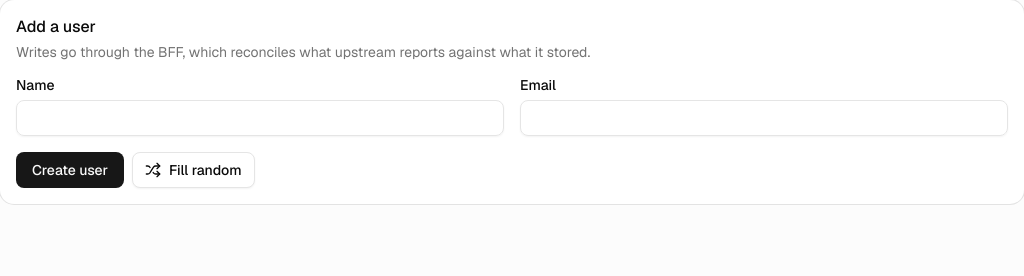
Test: creating a user › says nothing was written when the write is confirmed to have failed
The image size is (1024, 276).
Type "Grace" into the field labelled "Name" at [260, 118], box [16,100,504,136]
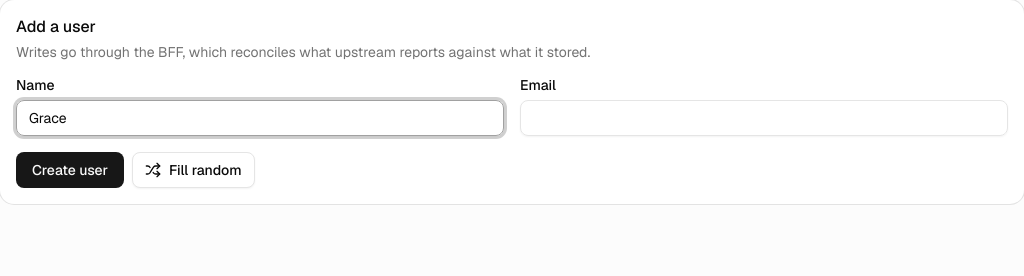
Type "grace@example.com" into the field labelled "Email" at [764, 118], box [520,100,1008,136]
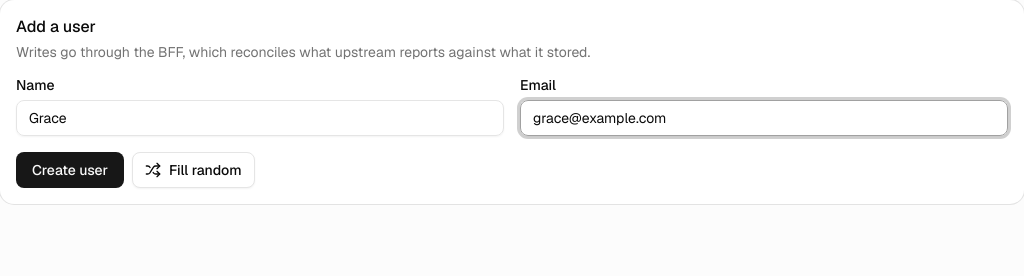
Click the button "Create user" at [70, 170], box [16,152,124,188]
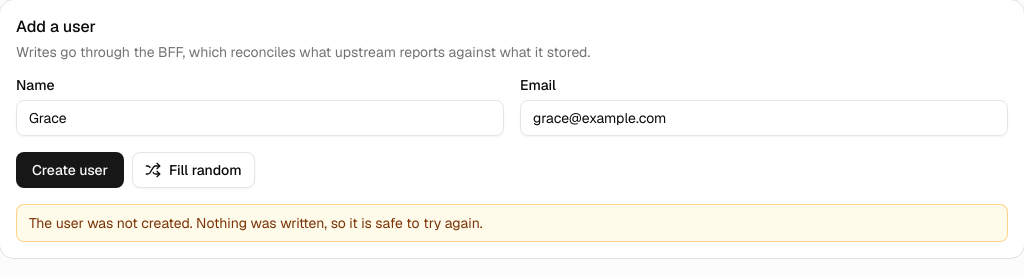
expect the message shows "safe to try again": met, box [29,214,483,232]
